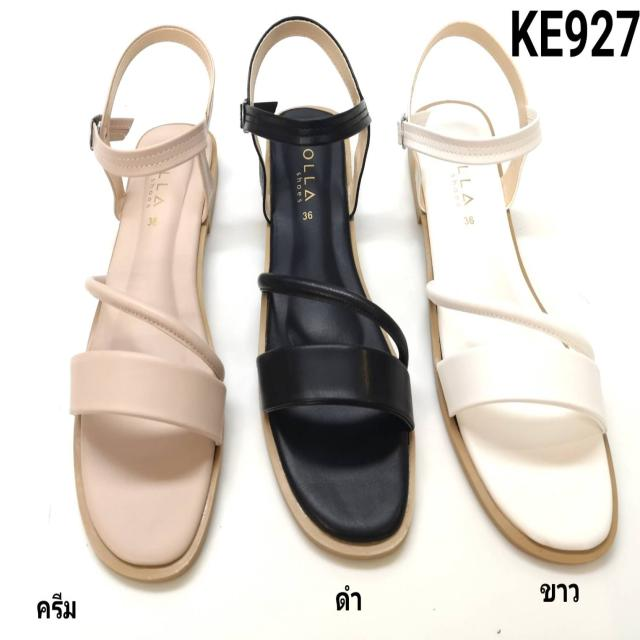black: (260, 109, 420, 550)
cream: (73, 116, 218, 572)
white: (418, 99, 616, 562)
